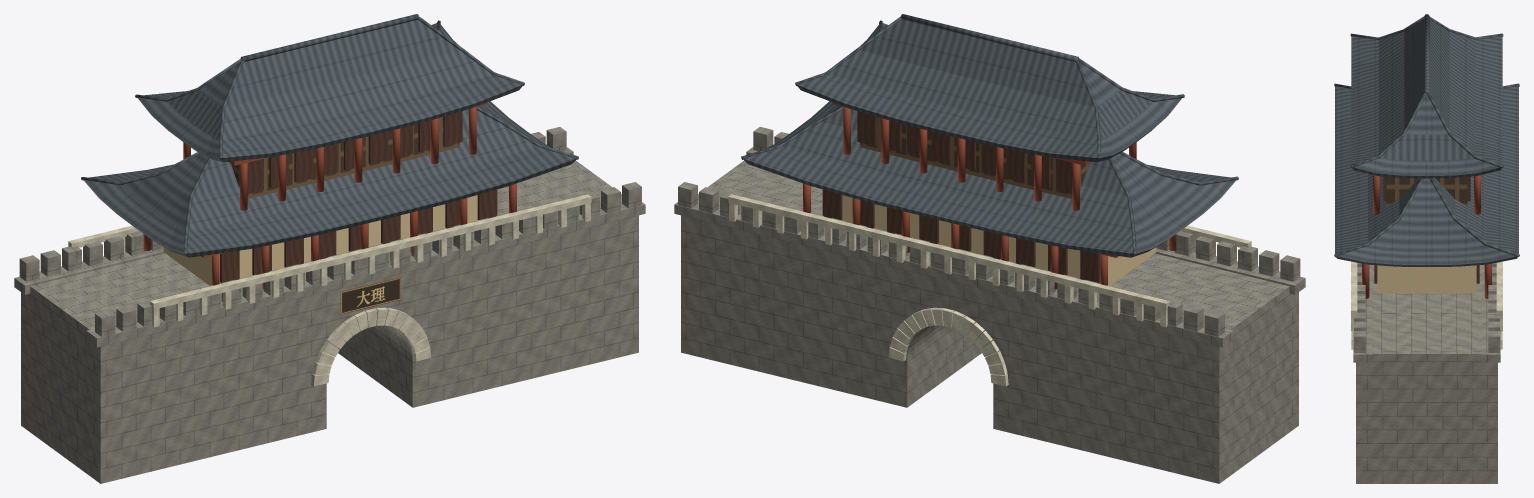
File: dali.glb
3 views of the same model, side by side, from view 1: azimuth 30°, elevation 25°; view 2: azimuth 150°, elevation 25°; view 3: azimuth 270°, elevation 25° (orthographic). The views are drawn at different scales.
Parts seen in each view (by area): view 1: 大理古城; view 2: 大理古城; view 3: 大理古城.
Boxes of the visible parts, x1,y1,x2,y2 form: 大理古城: (14,14,645,483); 大理古城: (674,14,1305,483); 大理古城: (1334,14,1519,483).
Bounding box in the file's own units: 6.25 × 3.85 × 2.06.
8 materials, 8 textured.
